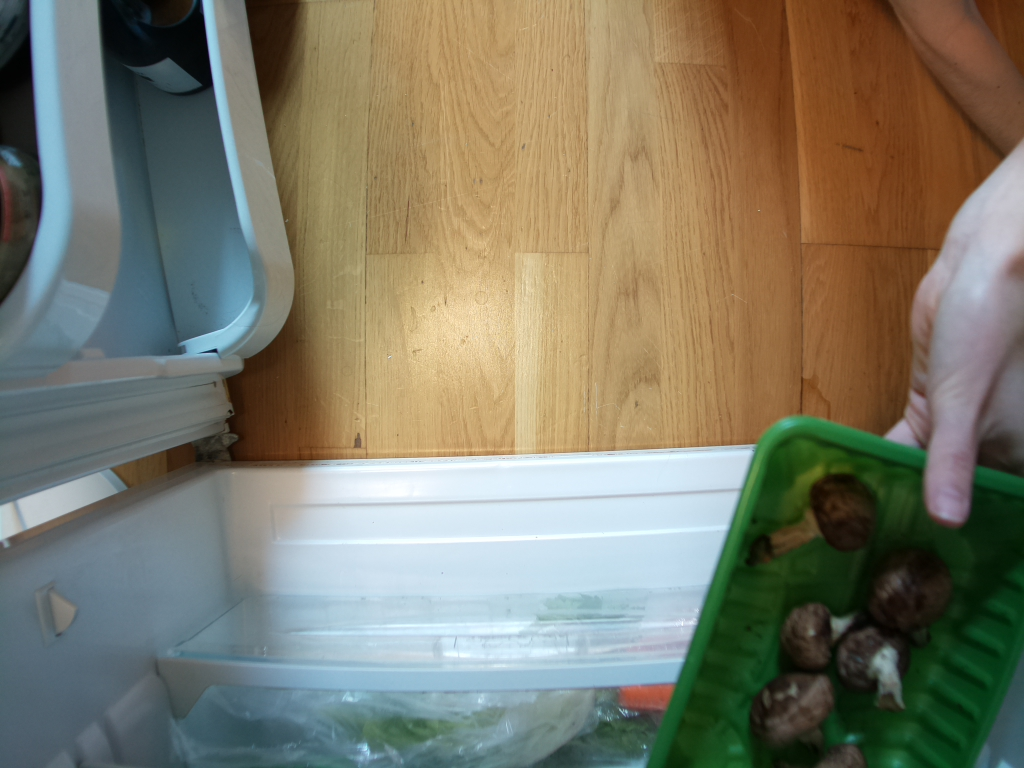mushrooms-bad: (657, 425, 1024, 768)
